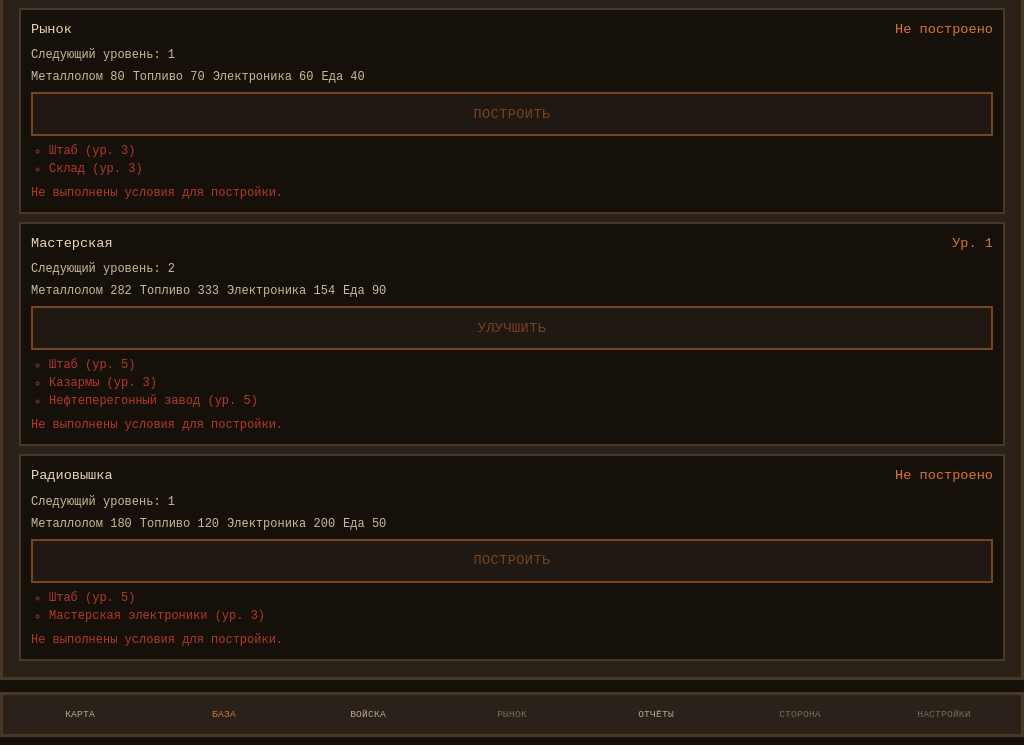
UnitsScreen — training submission and queue › submitting a specific unit row posts {unitType, count} to the train endpoint and renders the resulting queue row
(page scrolled)
Click the button "Войска". click: click(368, 714)
box: [297,701,439,728]
(page scrolled)
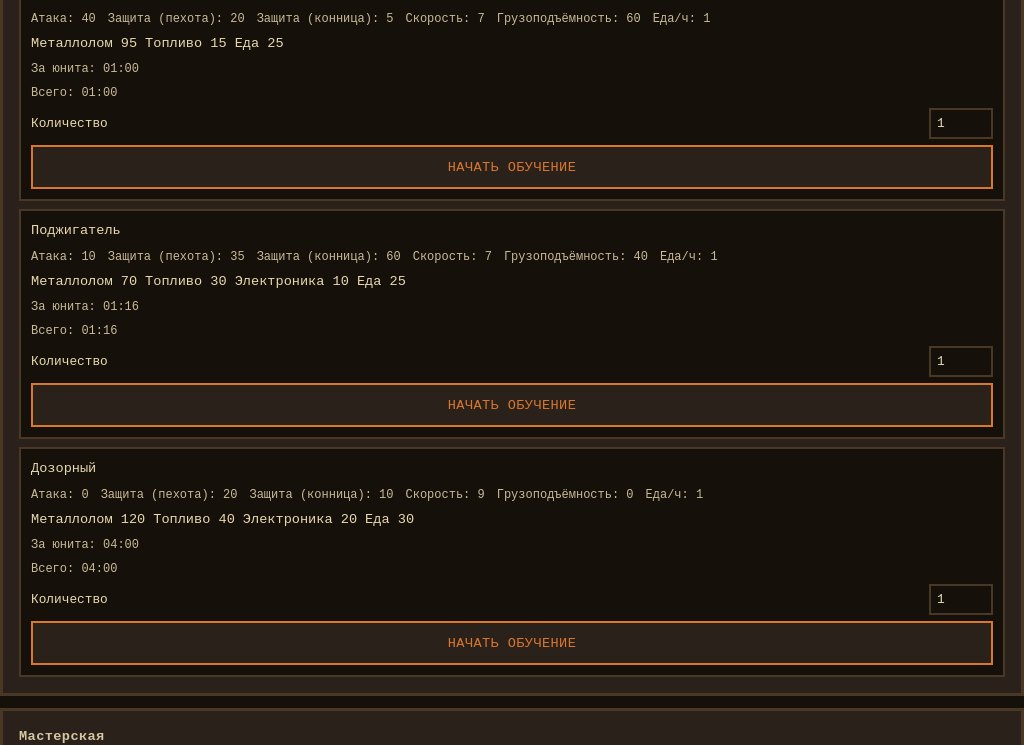
Replace the text in the 2nd number field labelled "Количество" with "2". click: (961, 362)
box: [929,346,993,377]
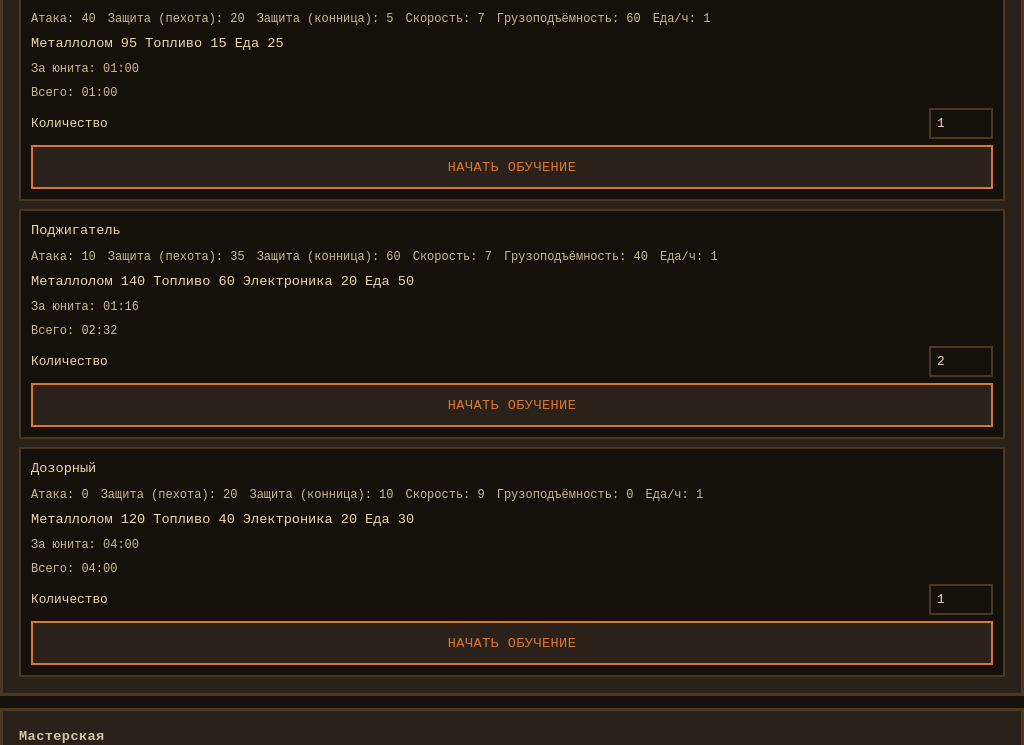
Click the button "Начать обучение" below "Поджигатель". click: click(512, 405)
box: [31,383,993,427]
(page scrolled)
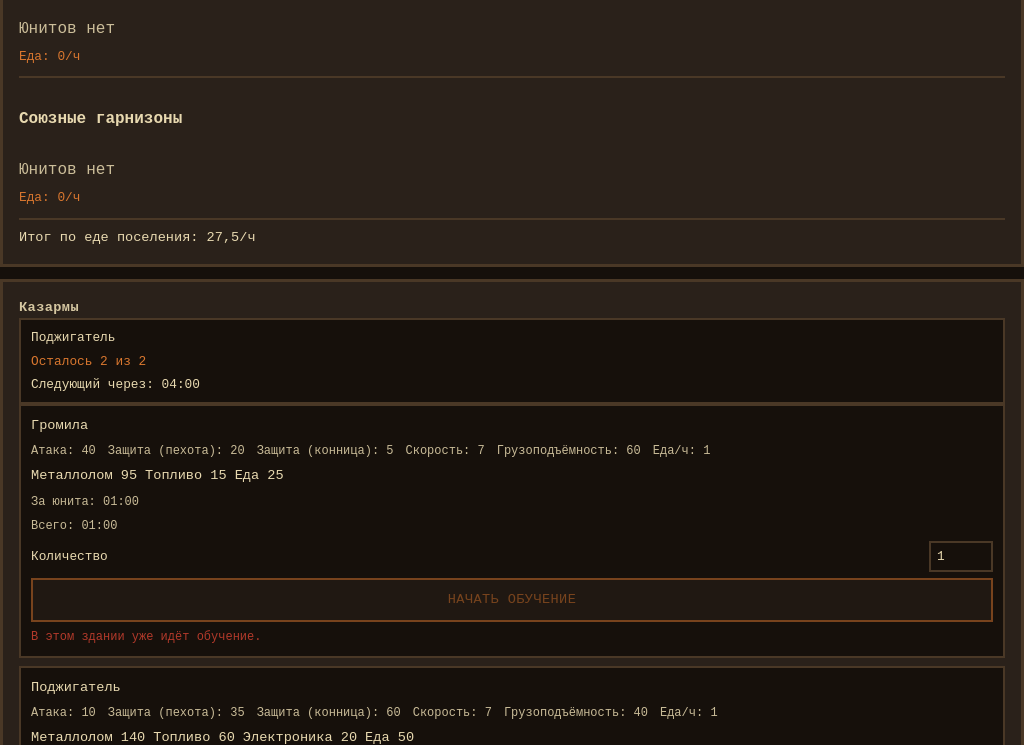
Expected: the text "Осталось 2 из 2" is shown, [31,354,146,368]
